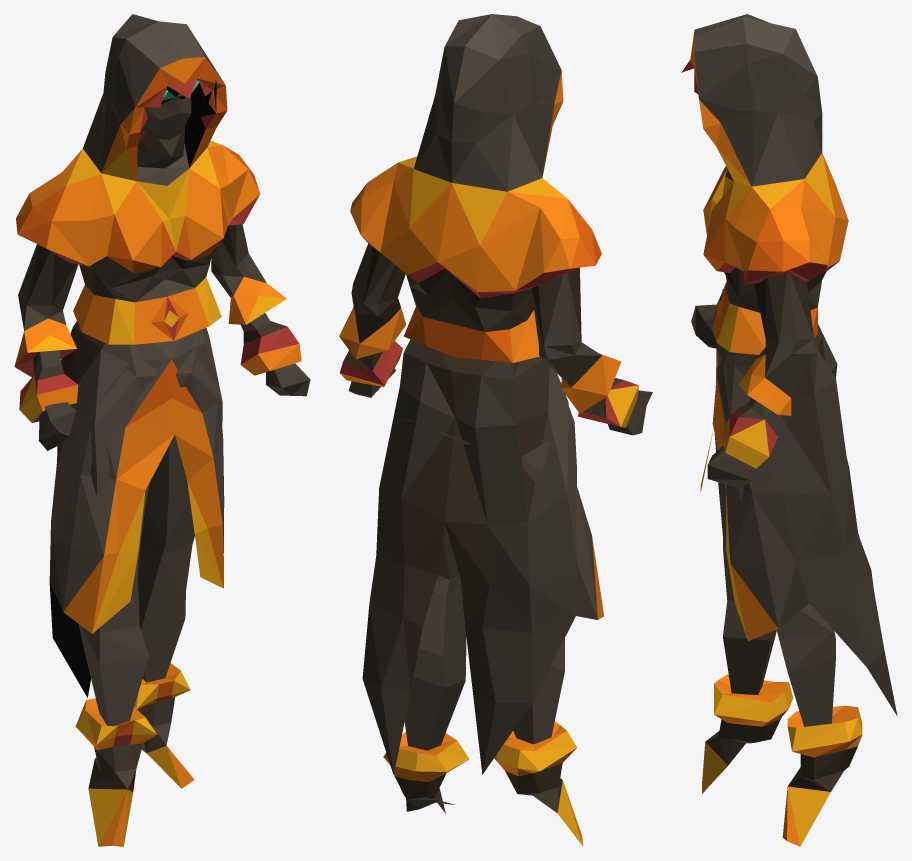
Rendered from wintertodt.gltf.
3 renders of one model, left to right at view 1: azimuth 30°, elevation 25°; view 2: azimuth 150°, elevation 25°; view 3: azimuth 270°, elevation 25°, orthographic. The views are drawn at different scales.
Size of the model in its own units: 70.44 by 202 by 49.13.
2 materials, 2 textured.
